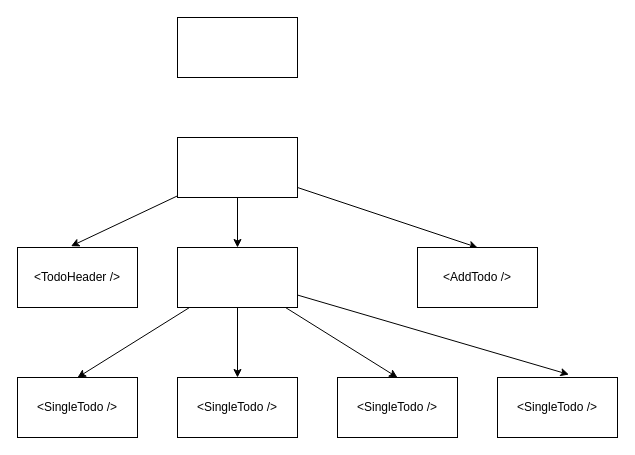
Some shapes in this 635 by 455 pixel diagram are drawn without their labels. The shapes that lost their labels are listed below. From the top down, each one's centre as x and y in pixels, then its label:
At point 237,47: "<App />".
At point 237,167: "<TodoApp />".
At point 237,277: "<TodoList />".
